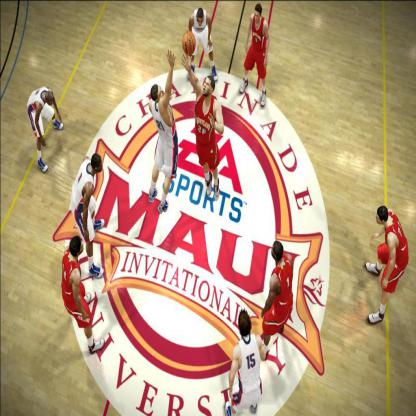face: (203, 80, 211, 95), (157, 86, 166, 99), (376, 214, 382, 225), (256, 12, 261, 22), (198, 19, 204, 26), (98, 165, 103, 172), (81, 242, 84, 253)
